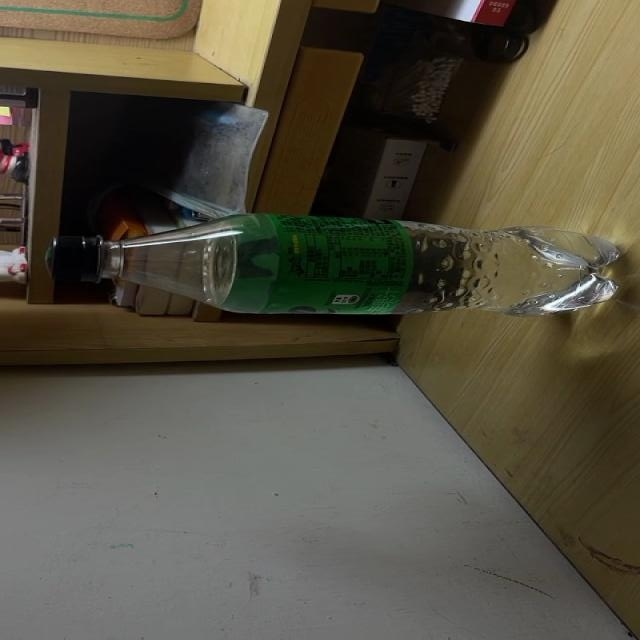Sprite: (47, 212, 621, 316)
